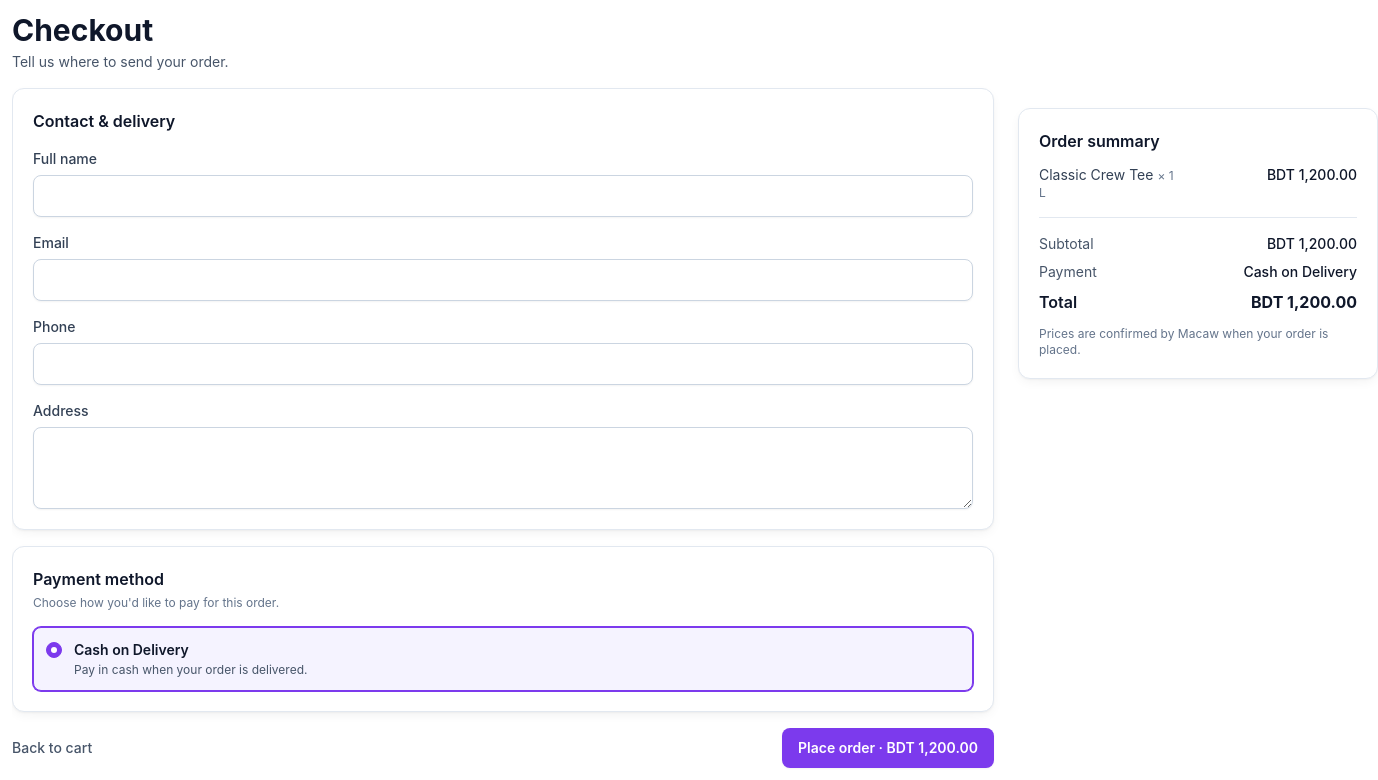
Test: CheckoutPage — validation and submission › renders a server-side error if createOrder rejects
The width and height of the screenshot is (1378, 780).
In the field labelled "Full name": (503, 196) 33,175 -> 973,217, type "Jane Doe"
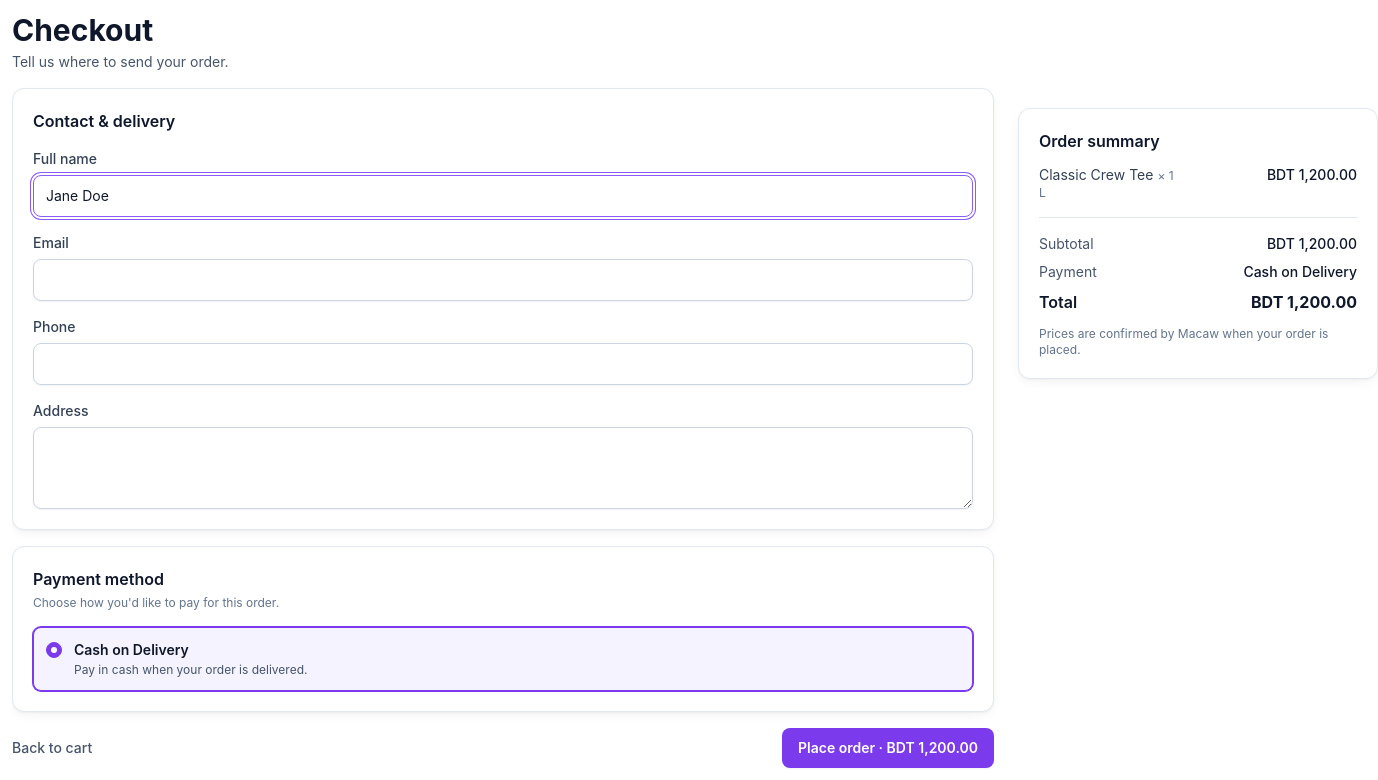
In the field labelled "Email": (503, 280) 33,259 -> 973,301, type "jane@example.com"
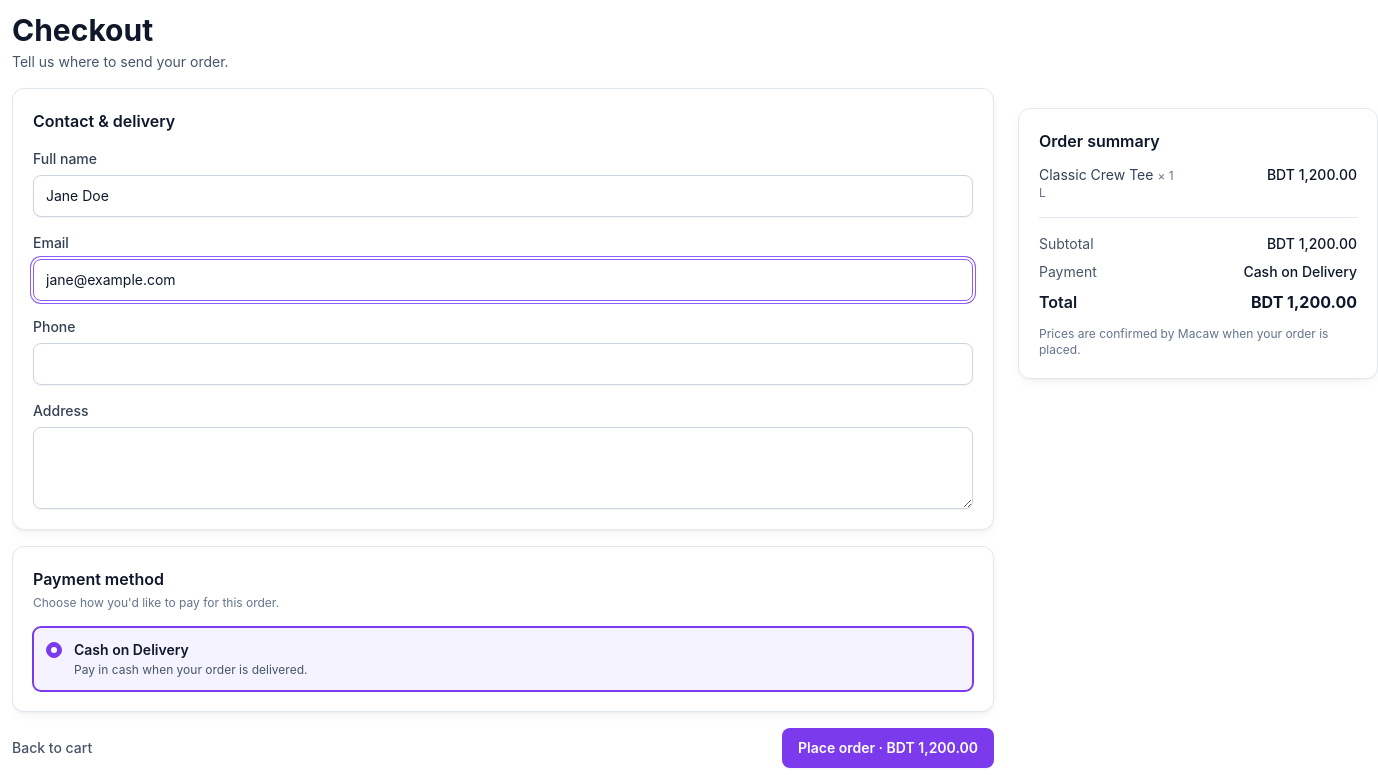
In the field labelled "Phone": (503, 364) 33,343 -> 973,385, type "+1 555 0000"
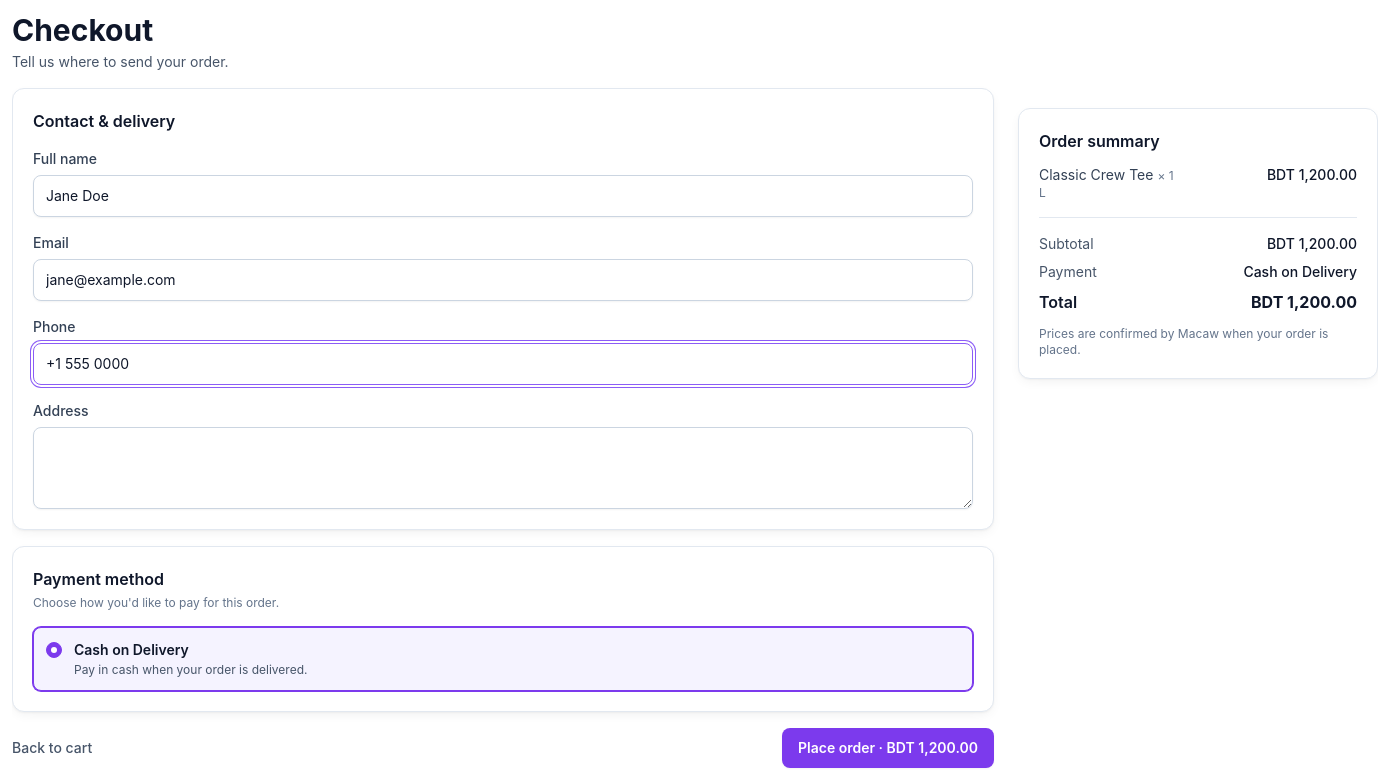
In the text box labelled "Address": (503, 468) 33,427 -> 973,509, type "1 Test Way"
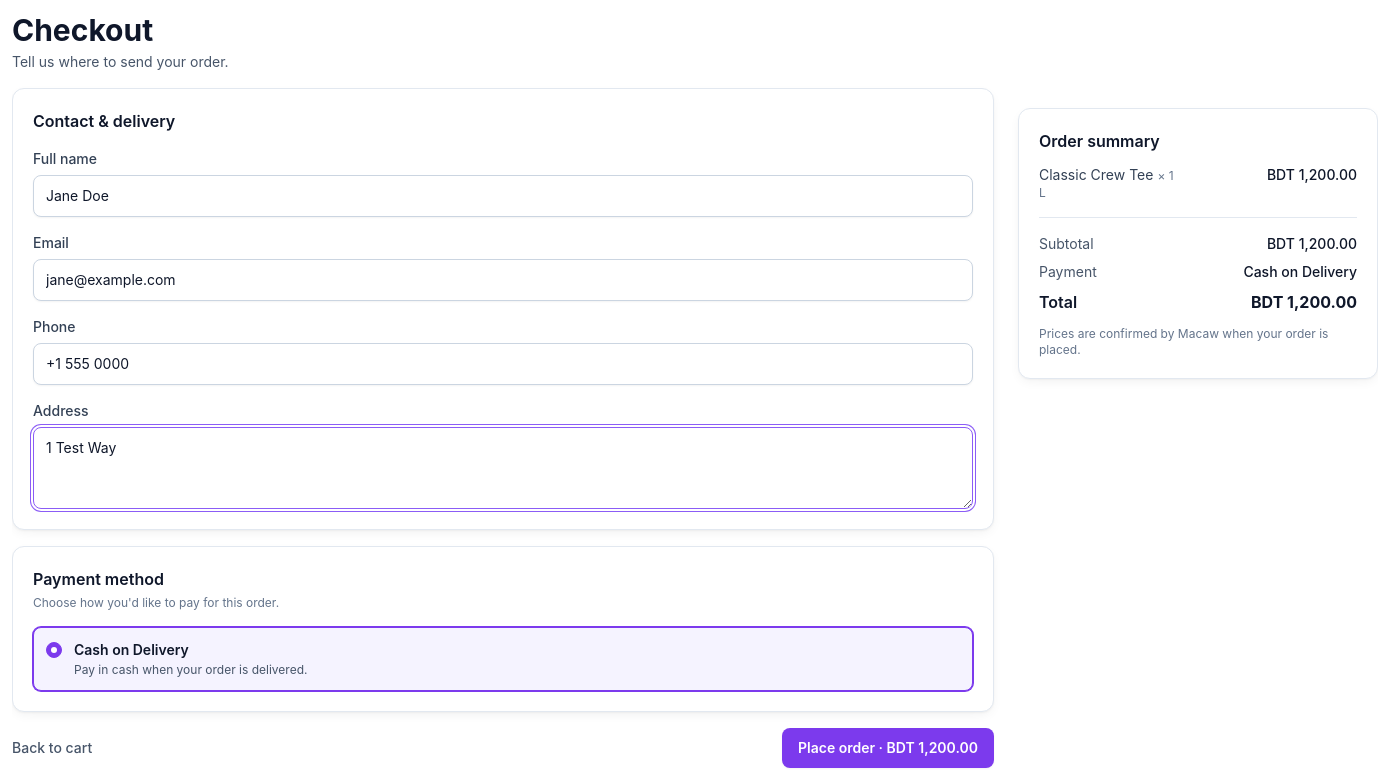
Click the button "Place order · BDT 1,200.00": (888, 748) 782,728 -> 994,768
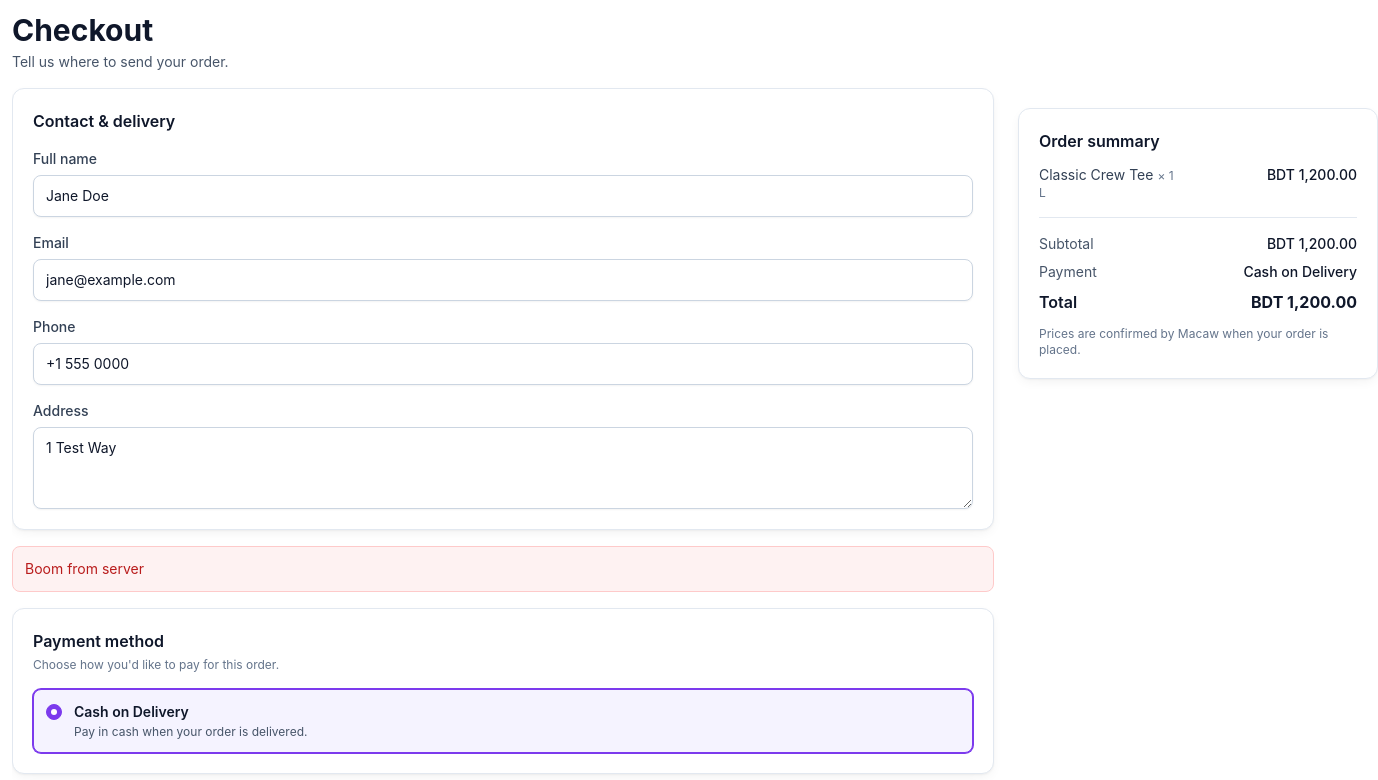
Check: the text "Boom from server" is shown, box 12,546 -> 994,592
